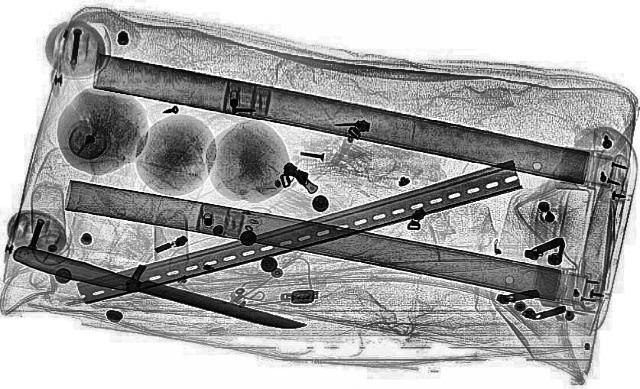Knife: (4, 245, 308, 337)
